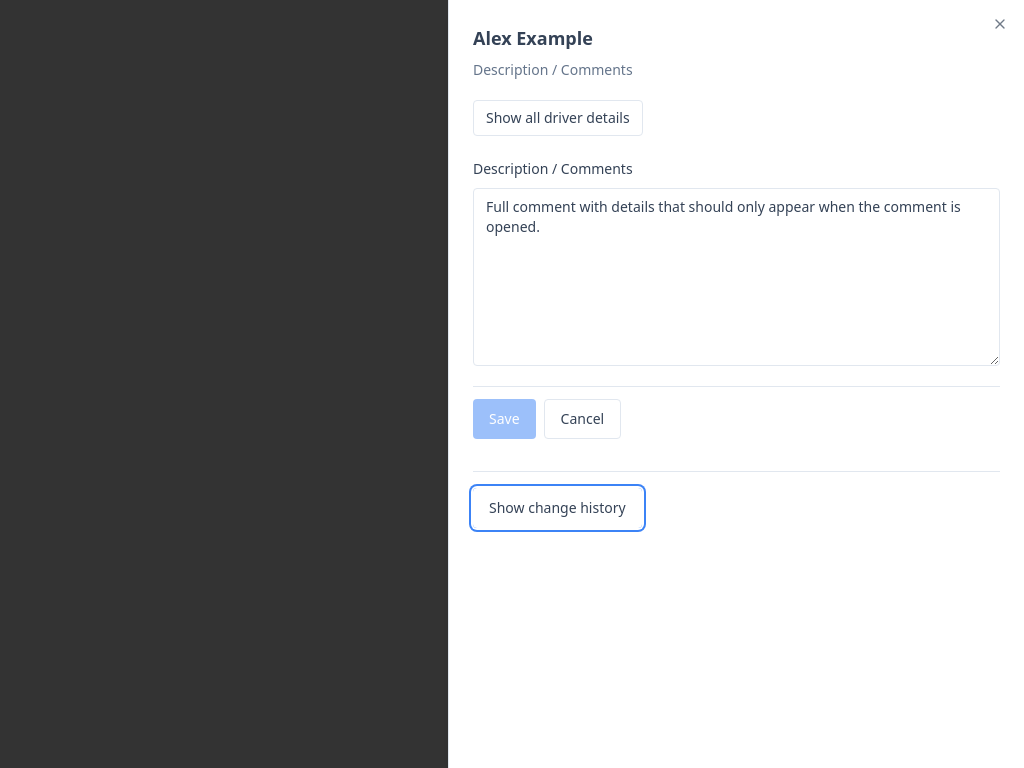
Test case: Candidate editing › retains the draft when a concurrent update prevents saving
The image size is (1024, 768).
Replace the text in the text box showing "Full comment with details that should only appear when the comment is opened." with "My unsaved draft" at [736, 277], box [473,188,1000,366]
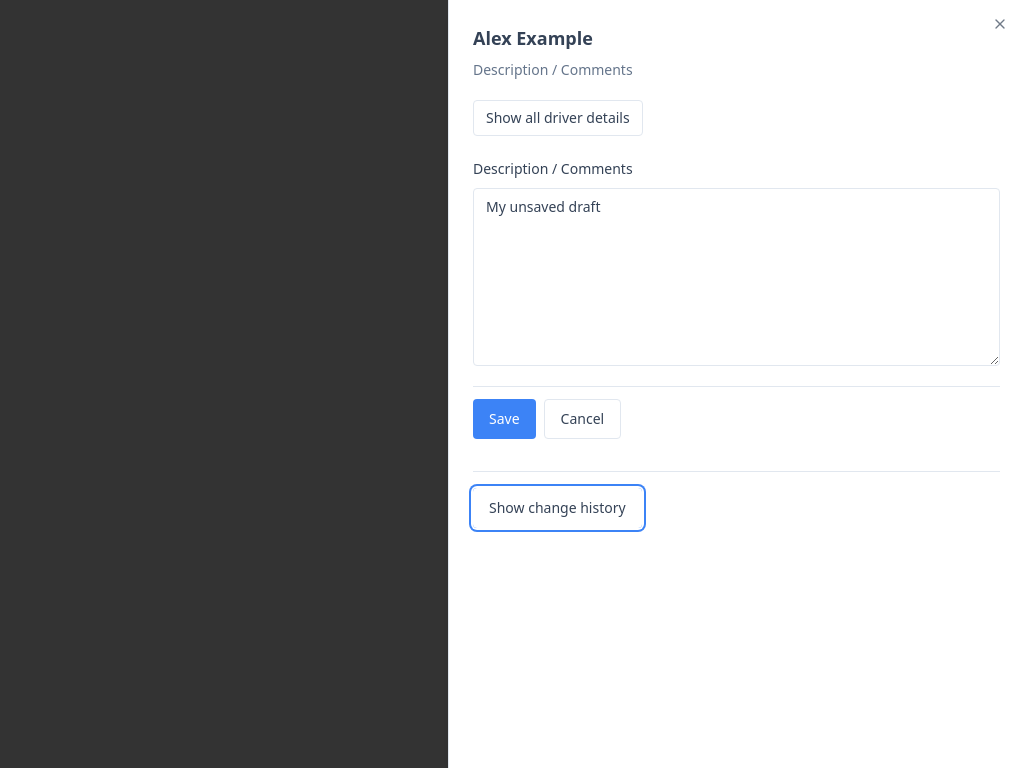
Click the button "Save" at [504, 419], box [473,399,536,439]
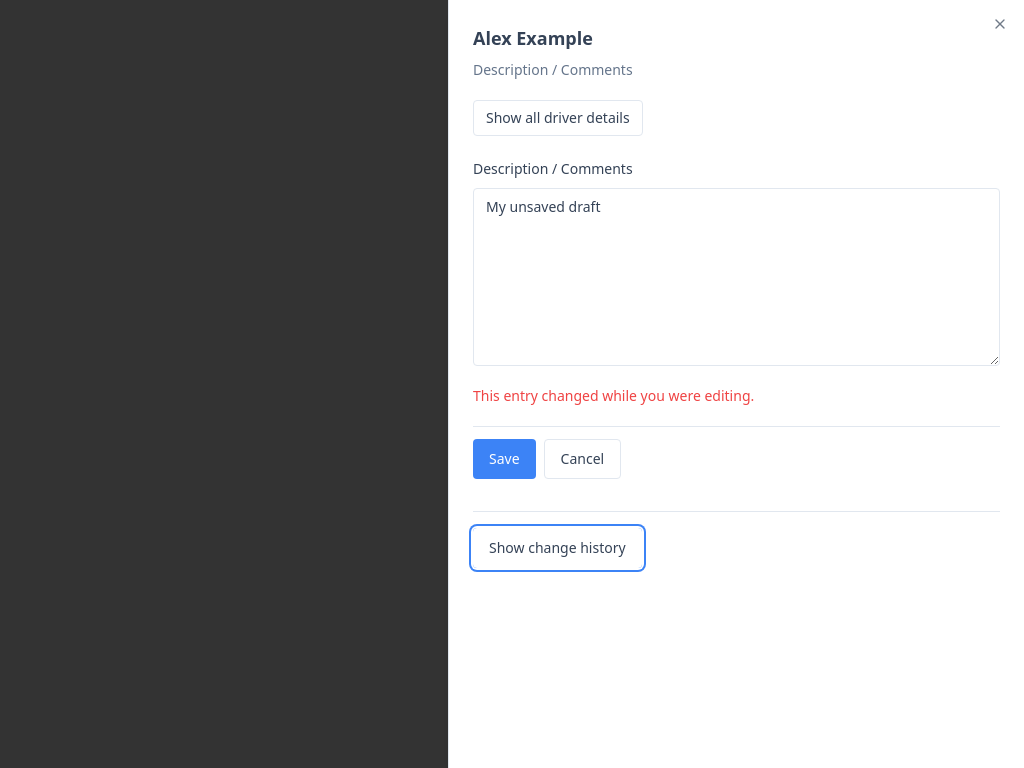
Check: the message shows "changed while you were editing", box [473,386,754,405]
